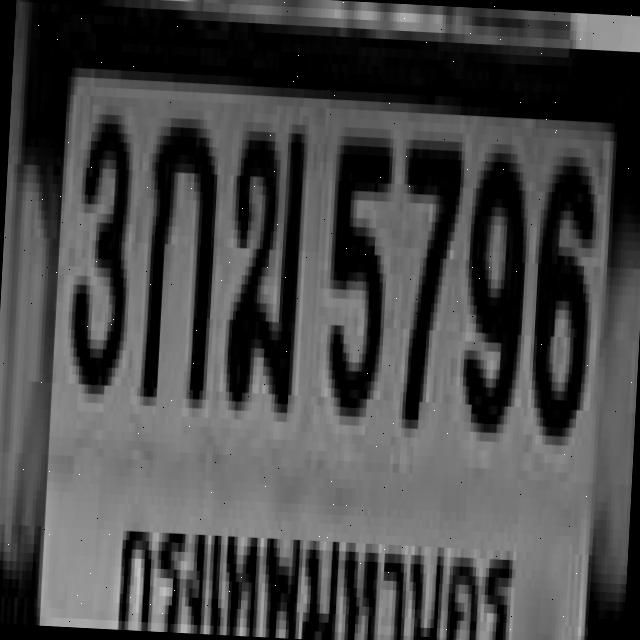10GorGai: (137, 108, 218, 400)
15KhorRaKhang: (222, 122, 306, 404)
3: (65, 105, 132, 386)
5: (321, 127, 392, 409)
6: (526, 146, 594, 428)
7: (392, 130, 463, 422)
9: (457, 143, 528, 425)
Bangkok: (109, 495, 529, 640)
